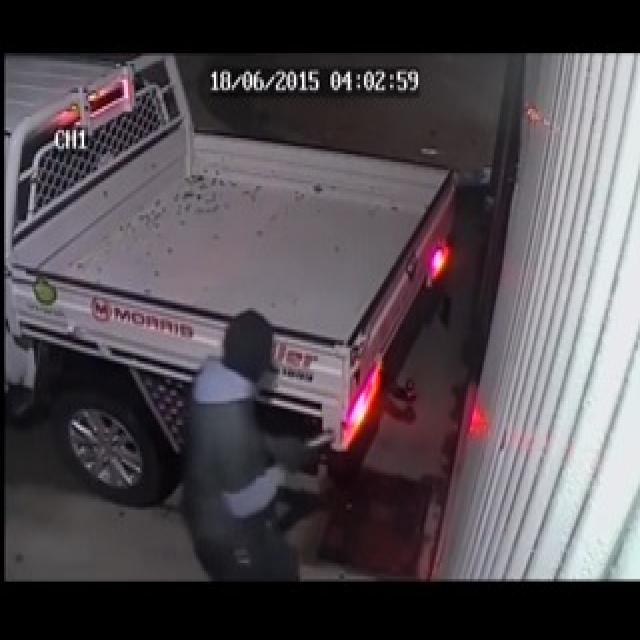thief: (204, 291, 290, 411)
